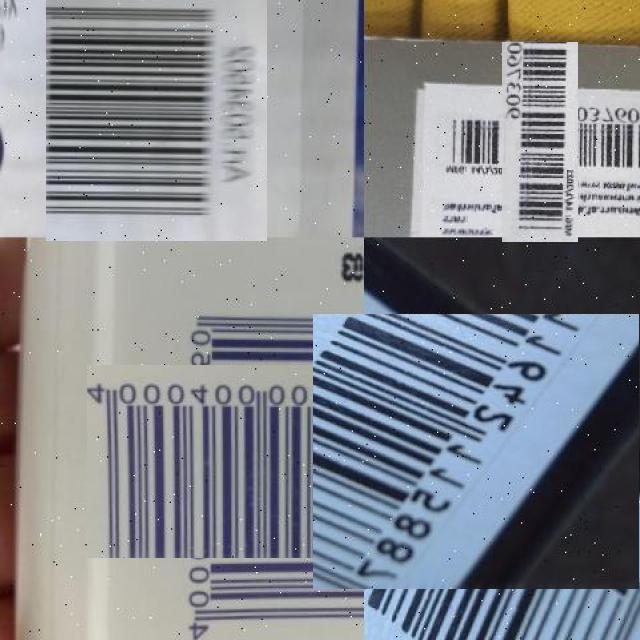Barcode: (338, 289, 640, 615), (128, 324, 404, 599), (35, 0, 276, 232), (471, 72, 609, 211)
